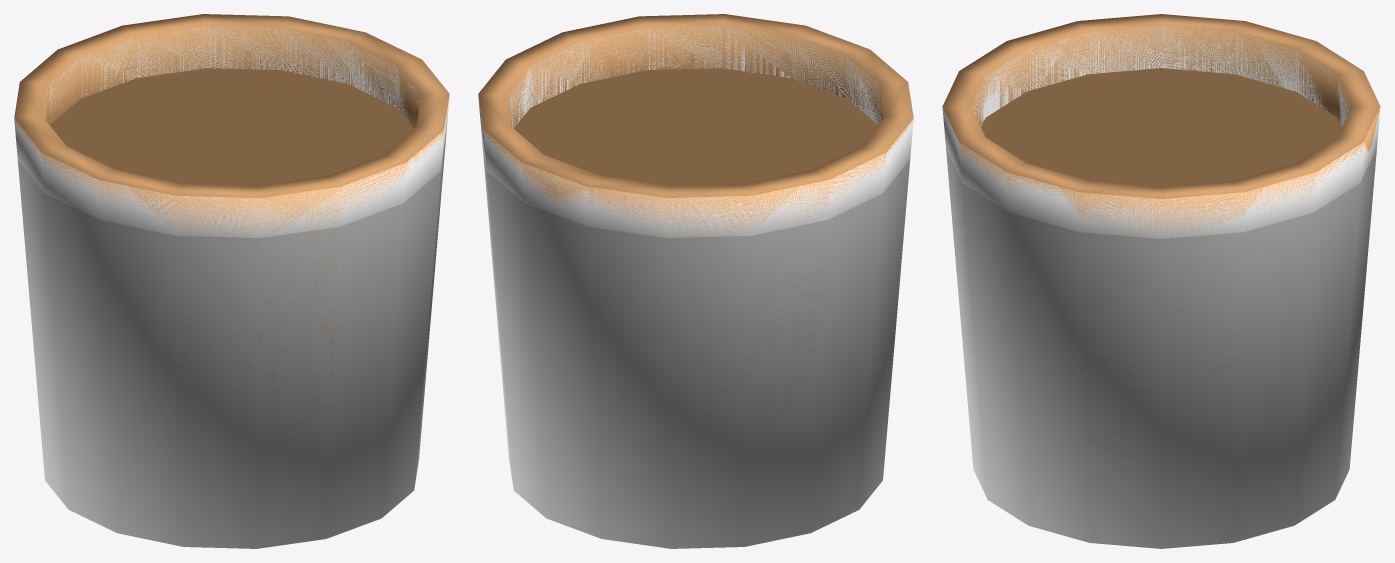
Rendered from italy_planter_round_1.dae.
The picture shows the model from 3 angles, left to right: view 1: azimuth 30°, elevation 25°; view 2: azimuth 150°, elevation 25°; view 3: azimuth 270°, elevation 25°; orthographic projection.
Visible parts, largest first — view 1: Colmesh-1, italy_planter_round_1_a200; view 2: Colmesh-1, italy_planter_round_1_a200; view 3: Colmesh-1, italy_planter_round_1_a200.
Boxes of the visible parts, bbox=[...] form: Colmesh-1: bbox=[14, 26, 449, 548]; italy_planter_round_1_a200: bbox=[14, 14, 449, 465]; Colmesh-1: bbox=[478, 26, 913, 548]; italy_planter_round_1_a200: bbox=[478, 14, 913, 470]; Colmesh-1: bbox=[942, 26, 1380, 548]; italy_planter_round_1_a200: bbox=[942, 14, 1380, 542].
Size of the model in its own units: 0.5622 by 0.5622 by 0.5138.
